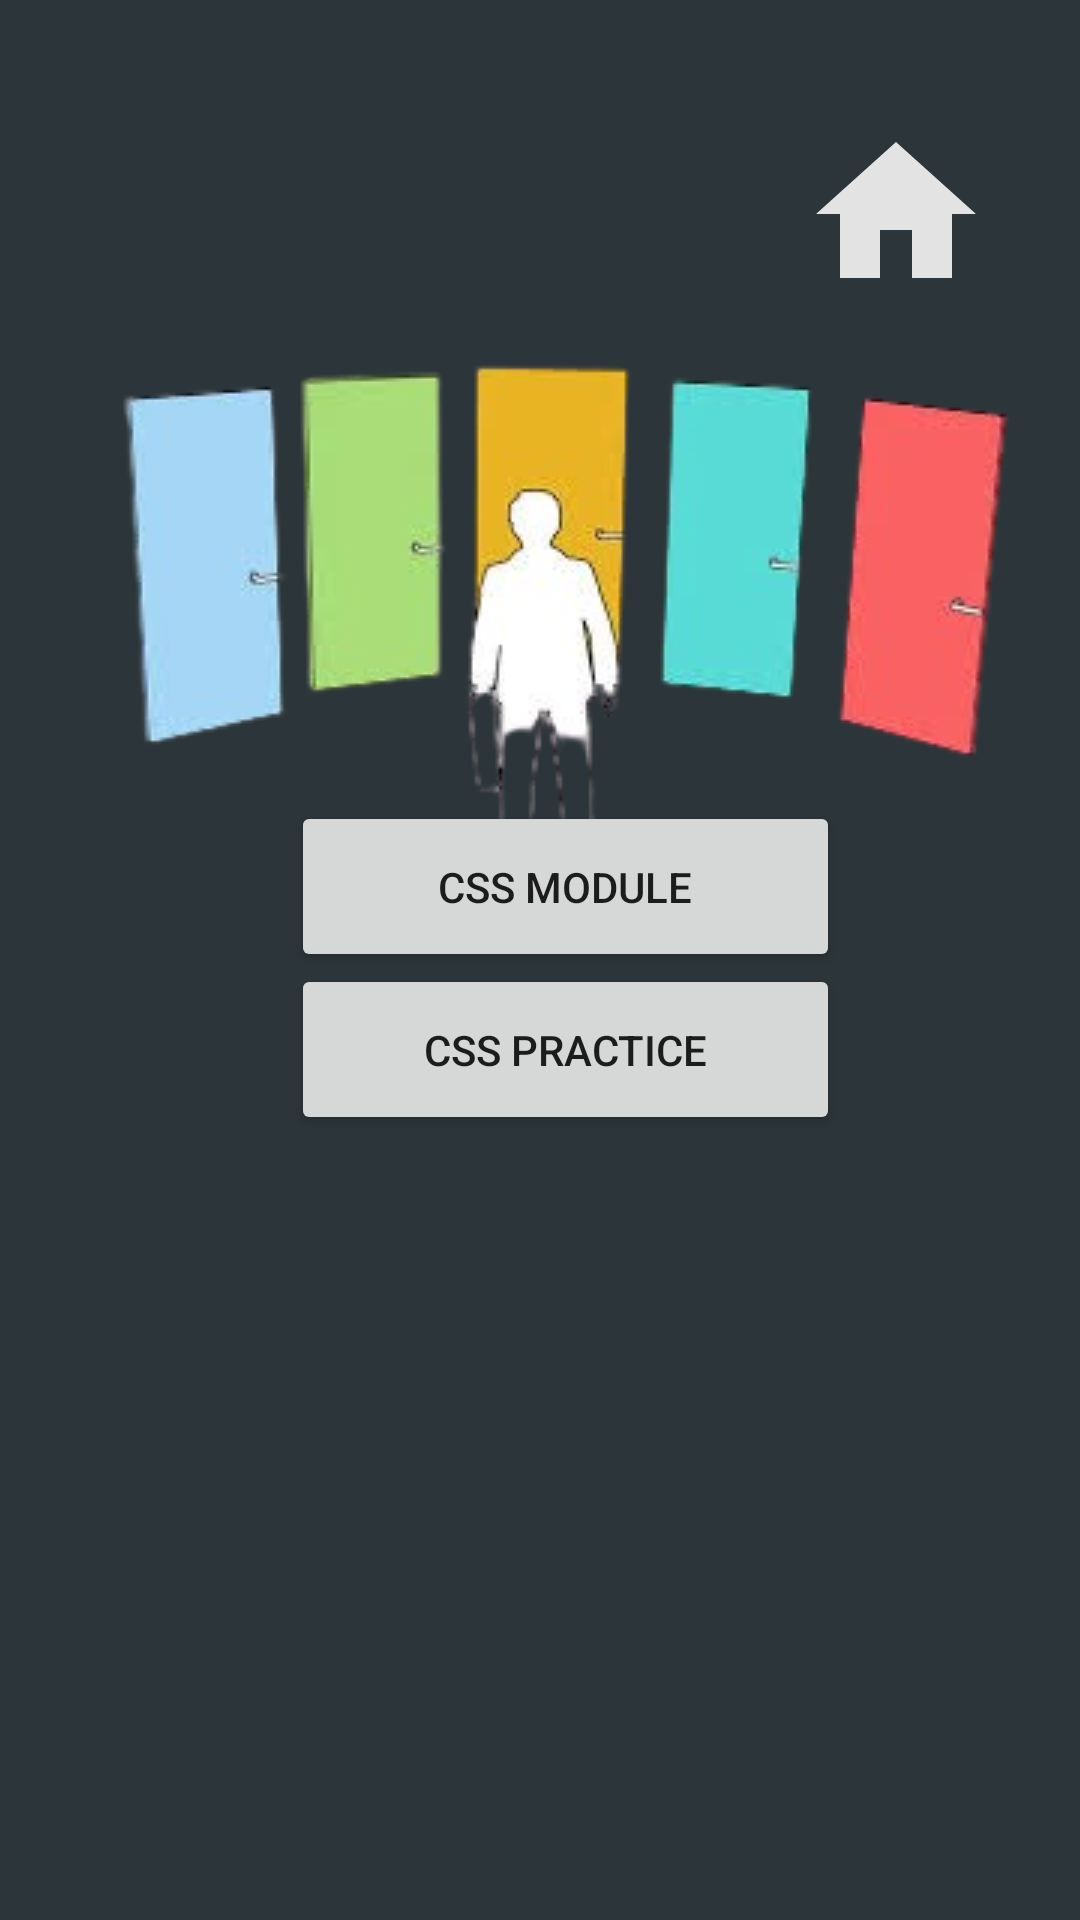

Locate icon controls on the screen. Image size 1080x1920, boxes as [x1,y1,x2,y2].
home: [816,142,976,278]
